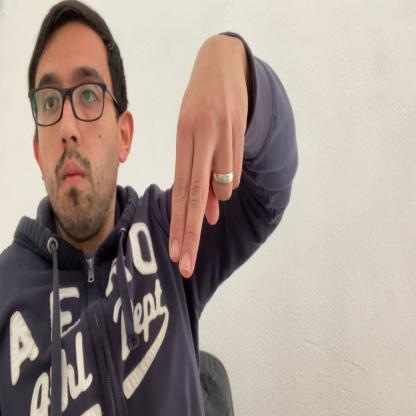N: (169, 43, 247, 276)
